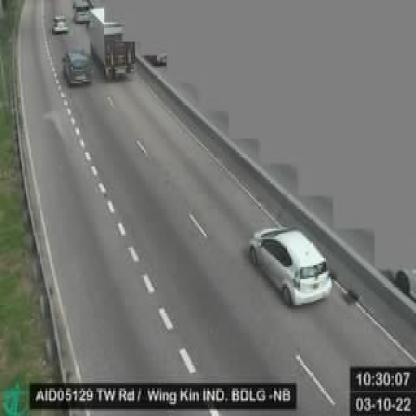Car: (248, 223, 332, 306), (61, 47, 92, 85), (76, 0, 94, 26), (51, 16, 69, 34)
Truck: (86, 5, 134, 76)
